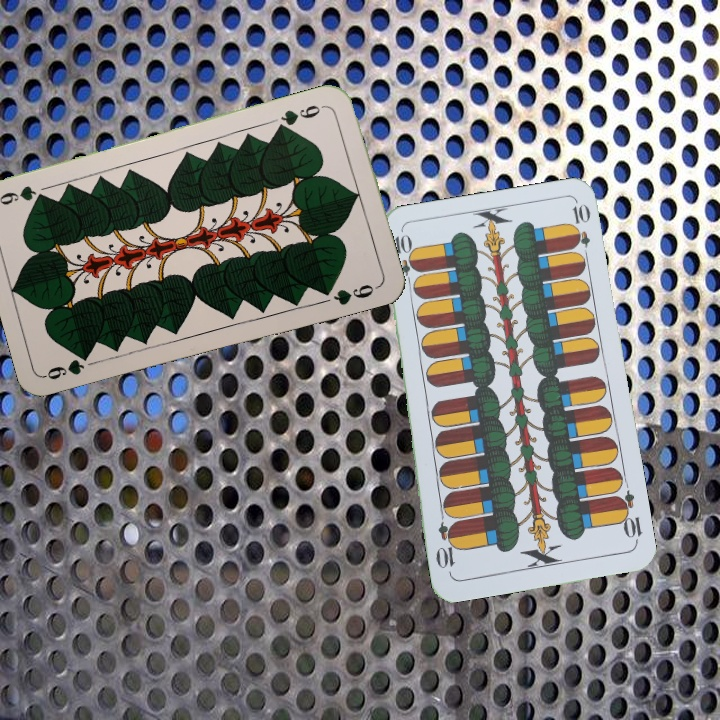E10: (612, 487, 645, 546), (390, 230, 416, 289)
G9: (274, 100, 330, 133), (42, 351, 92, 382)
